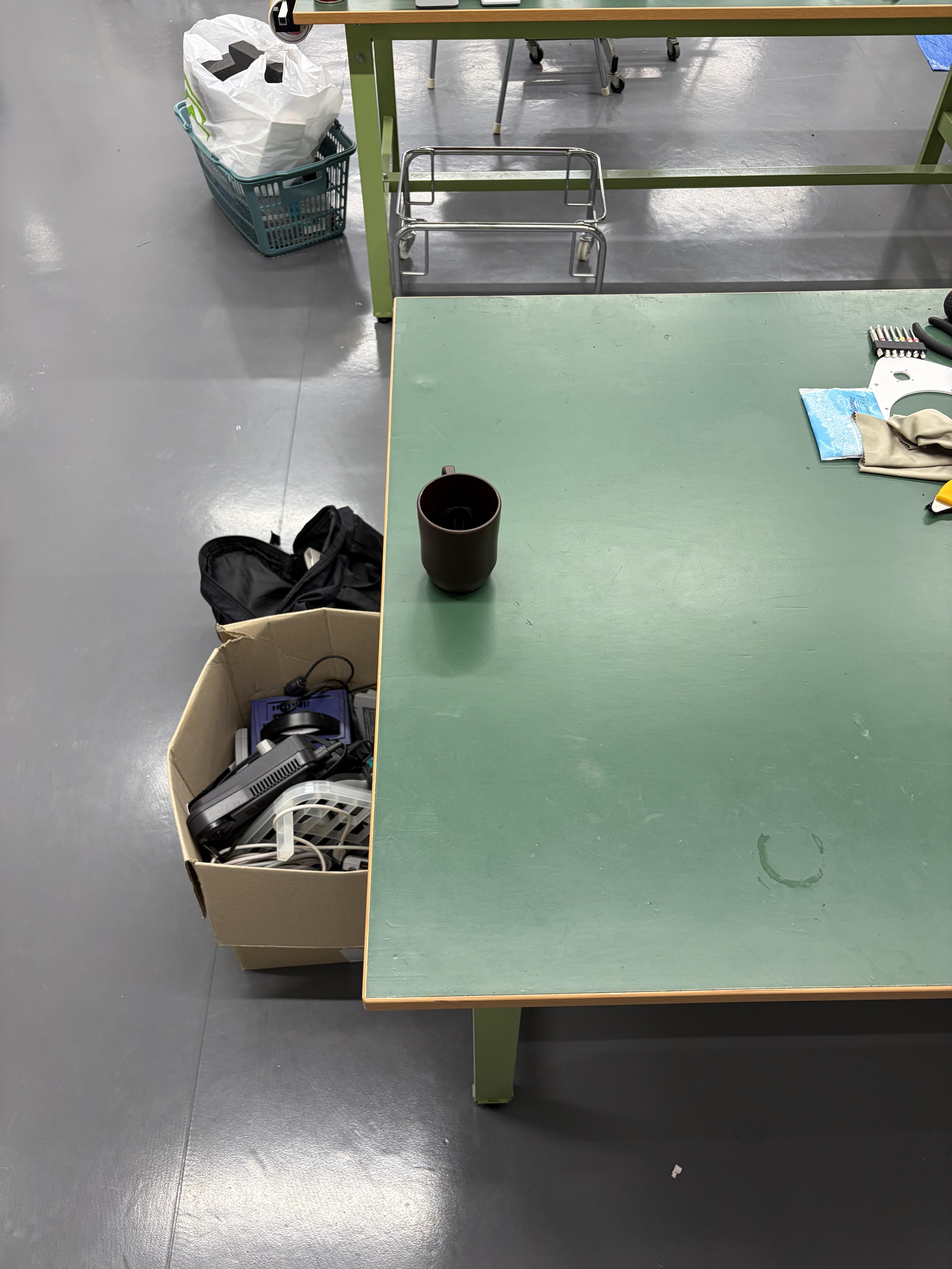mug-real100-3d100: (417, 466, 501, 593)
